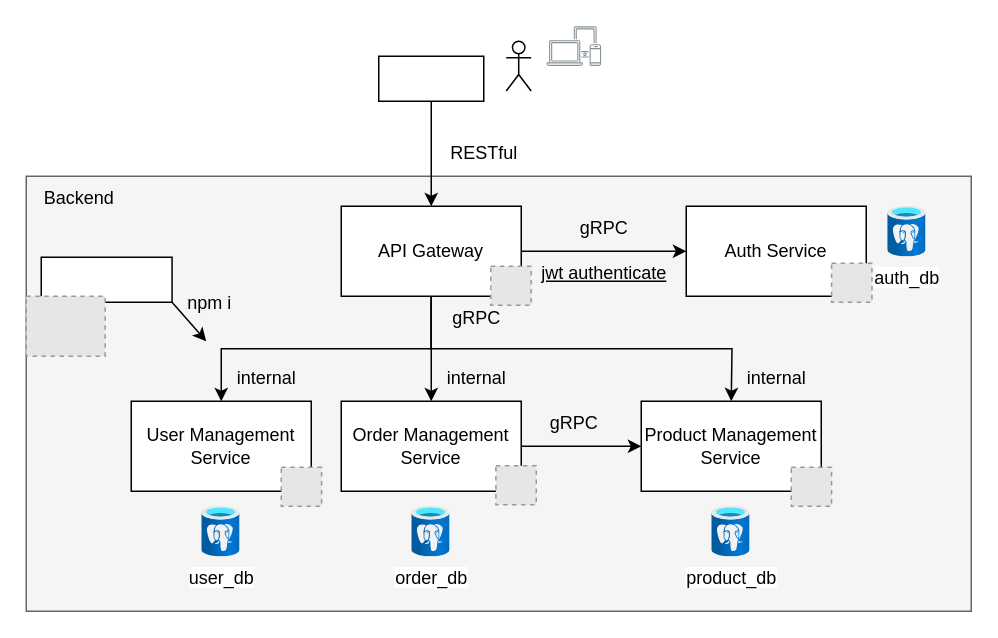
Some shapes in this 998 by 638 pixel diagram are drawn without their labels. Grey dashed boxes stand in for pictures. Each missing label, with the centre of its shape:
devices: the point at 573,45
EndUser: the point at 518,65
Frontend: the point at 430,78
Protobuffer Vault: the point at 106,279
